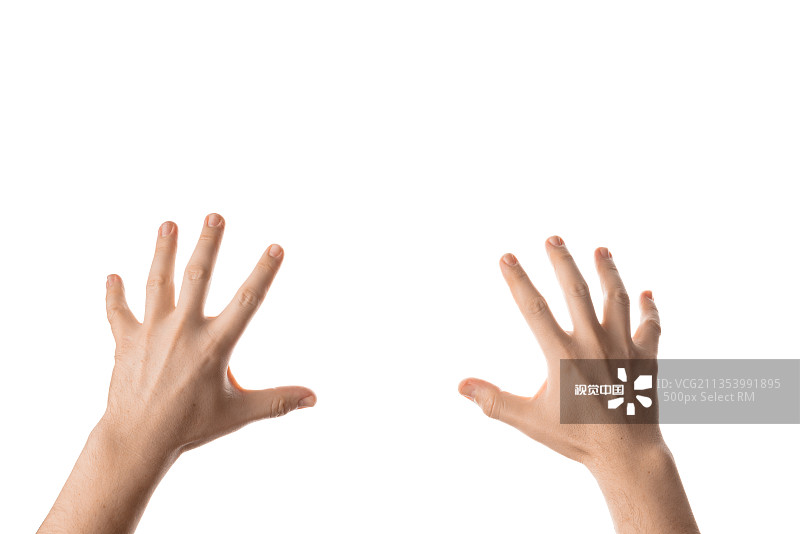no-phone: (55, 194, 345, 461), (433, 223, 702, 483)
